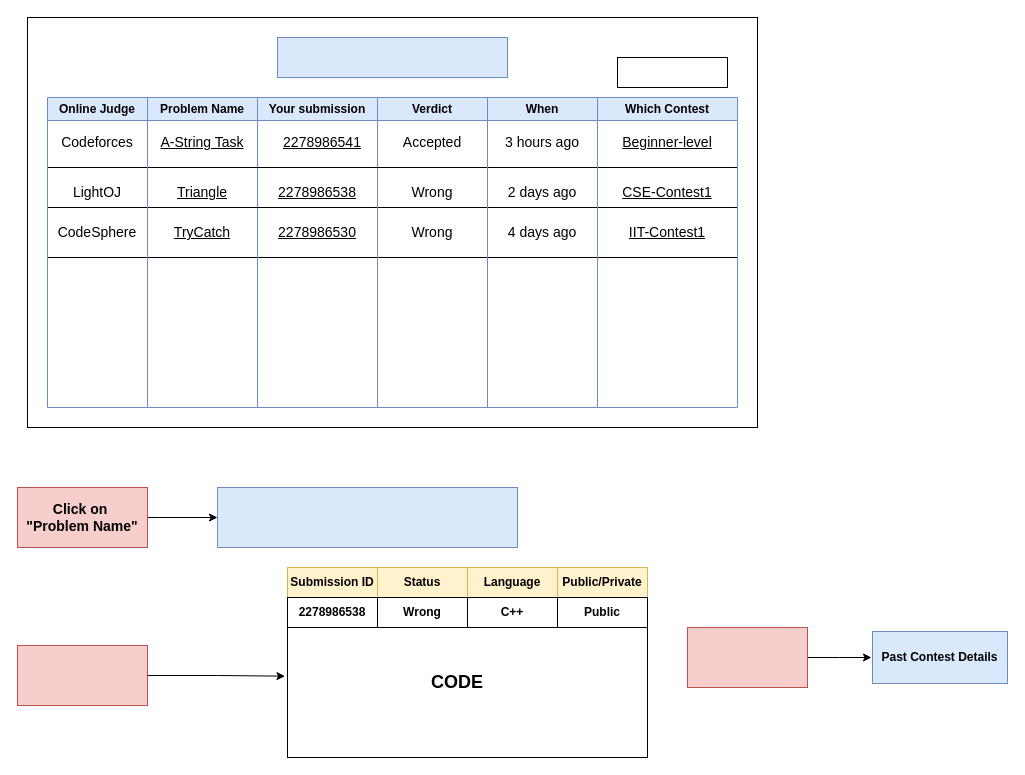
Some shapes in this 1025 by 775 pixel diagram are drawn without their labels. Each missing label, with the centre of its shape:
Click on "Which Contest": (x=747, y=657)
Click on "Your submission": (x=82, y=675)
Go to the problem_mentioned online judge: (x=367, y=517)
Problem Repository: (x=392, y=57)
Search: (x=672, y=72)
